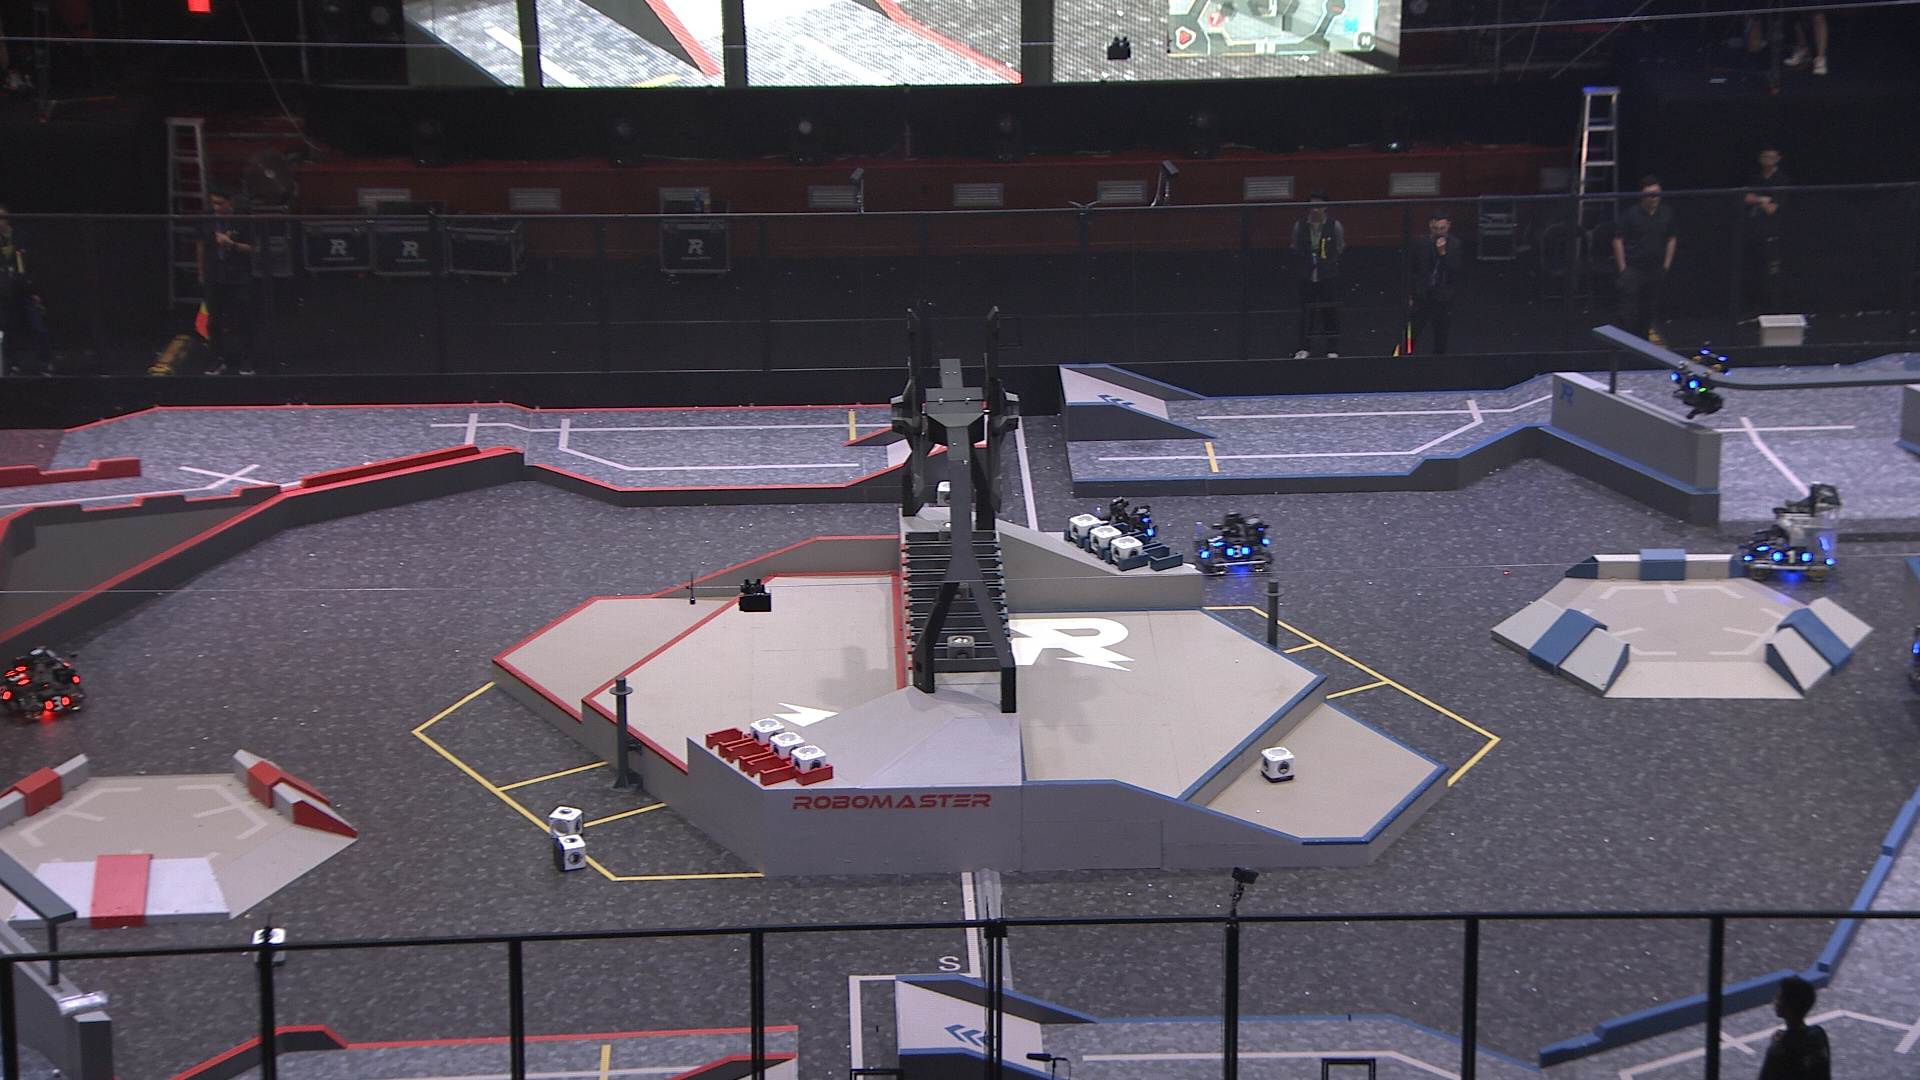armor: (1669, 368, 1698, 392), (1774, 547, 1811, 564), (44, 690, 69, 712), (7, 666, 30, 688), (1222, 542, 1250, 560), (1755, 531, 1775, 553), (1204, 531, 1225, 551), (1195, 541, 1211, 560), (1143, 518, 1158, 538)
car: (1737, 480, 1844, 584), (1188, 504, 1275, 576), (1079, 489, 1162, 562)
watcher: (1664, 338, 1731, 419)
